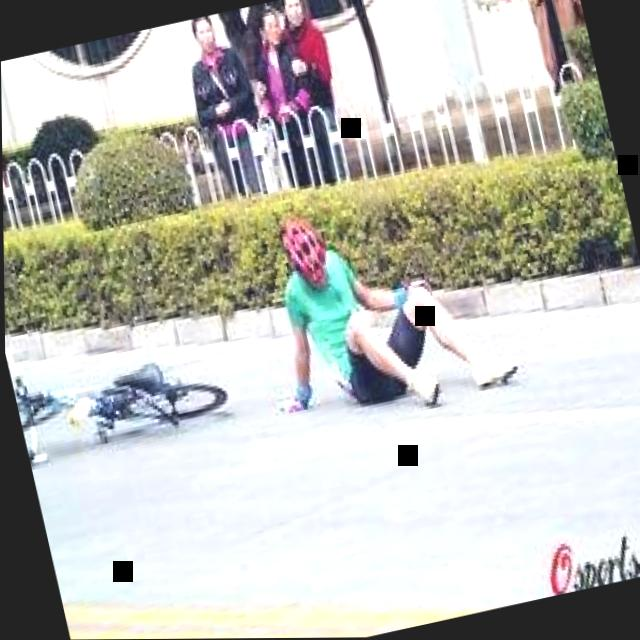Fall-Detected: (221, 161, 523, 440)
